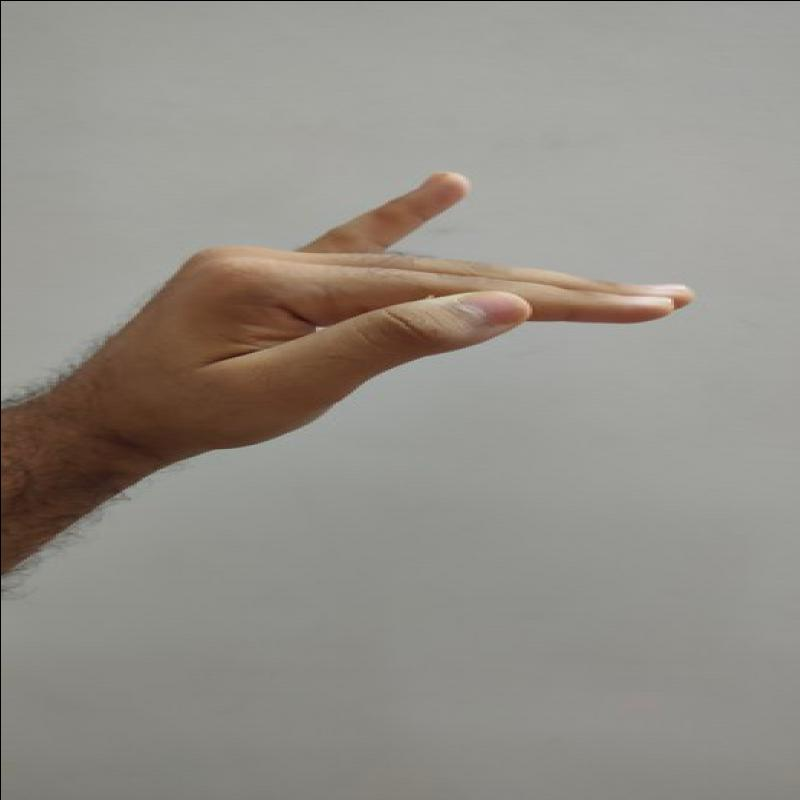Kartharee Mukham: (72, 155, 704, 472)
